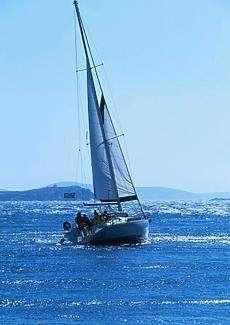fanchuan: (54, 1, 153, 249)
